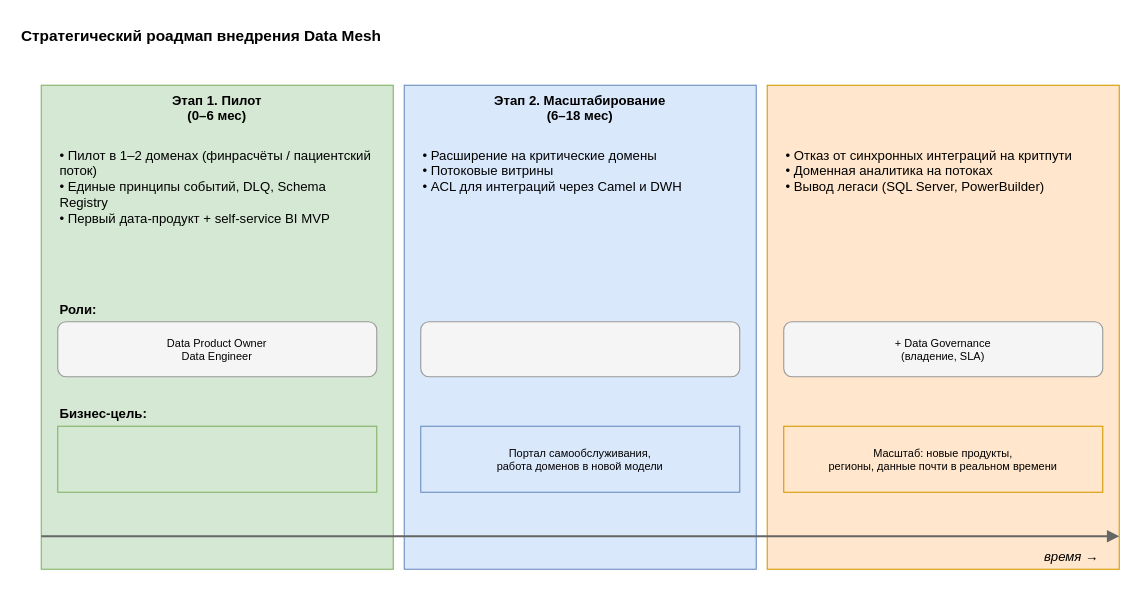
Some shapes in this 1148 by 589 pixel diagram are drawn without their labels. Each missing label, with the box of its shape:
+ BI-аналитик + Platform Team: (420, 321, 740, 377)
Согласованная архитектура, границы доменов, MVP витрины: (57, 425, 377, 492)
Этап 3. Поддержка доменов (18–36 мес): (766, 84, 1119, 569)
